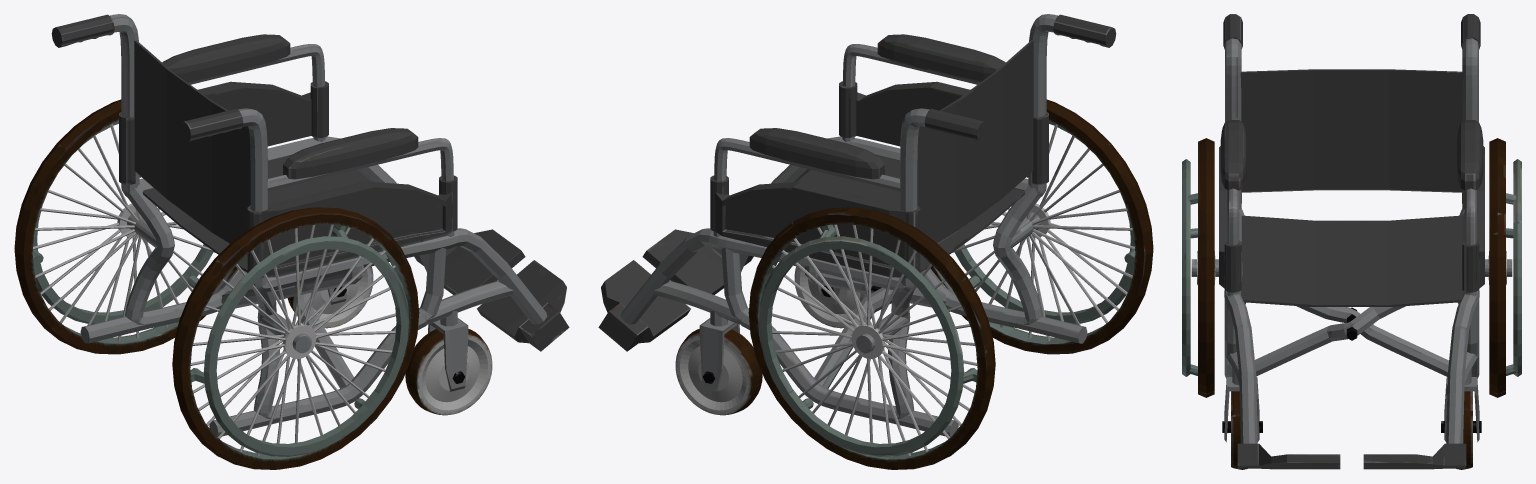
The model's file is wheelchair.glb.
3 renders of one model, left to right at view 1: azimuth 30°, elevation 25°; view 2: azimuth 150°, elevation 25°; view 3: azimuth 270°, elevation 25°, orthographic. The views are drawn at different scales.
Parts seen in each view (by area): view 1: wheel; view 2: wheel; view 3: wheel.
Part boxes in pixels (x1,y1,x2,y2): wheel: [14, 14, 569, 469]; wheel: [598, 14, 1153, 469]; wheel: [1182, 14, 1521, 469].
Bounding box in the file's own units: 4.67 × 3.66 × 3.4.
1 material, 1 textured.
